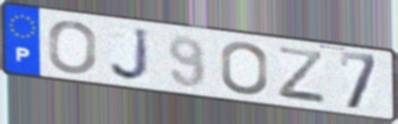7: (337, 49, 378, 114)
9: (166, 33, 209, 90)
J: (108, 26, 153, 84)
O: (46, 19, 99, 76), (218, 41, 270, 97)
Z: (275, 44, 329, 106)
